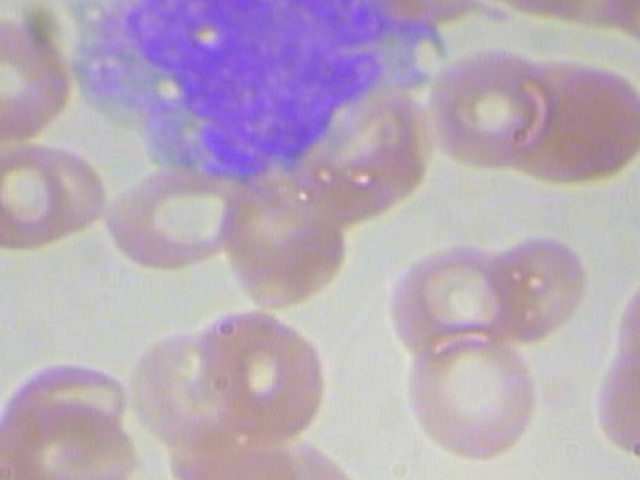RBC: (188, 301, 331, 445), (396, 331, 542, 459), (379, 235, 524, 363), (426, 41, 565, 164), (101, 161, 241, 275), (0, 138, 120, 252), (475, 234, 592, 345), (0, 399, 144, 480), (0, 9, 78, 153), (595, 337, 640, 465), (615, 260, 640, 383), (599, 0, 640, 70)
WBC: (66, 0, 448, 195)
